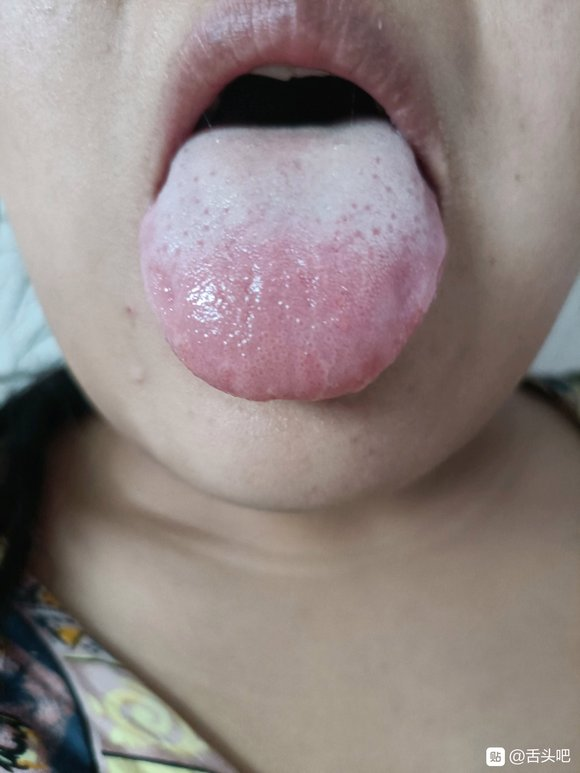baitaishe: (141, 118, 447, 401)
hongdianshe: (368, 224, 381, 237), (199, 204, 211, 218)
pangdashe: (141, 118, 447, 401)
